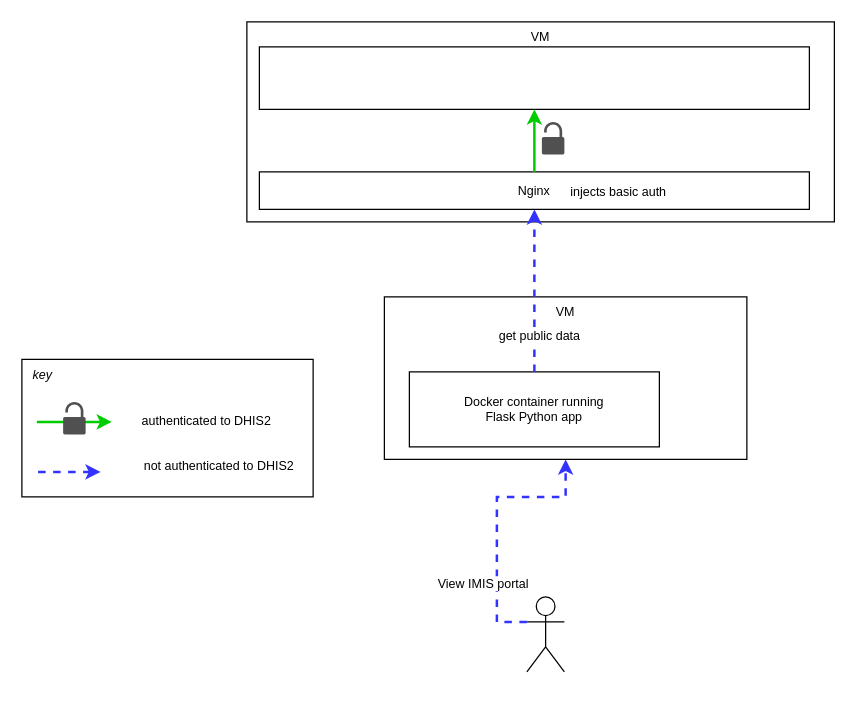
Image size: 856x718. Some labels were removed from this diagram. The shapes that lost their labels are listed below. From the top down, each one's centre as x and y in pixels, then its label:
At point 533,77: "DHIS2".
At point 545,634: "Public".
